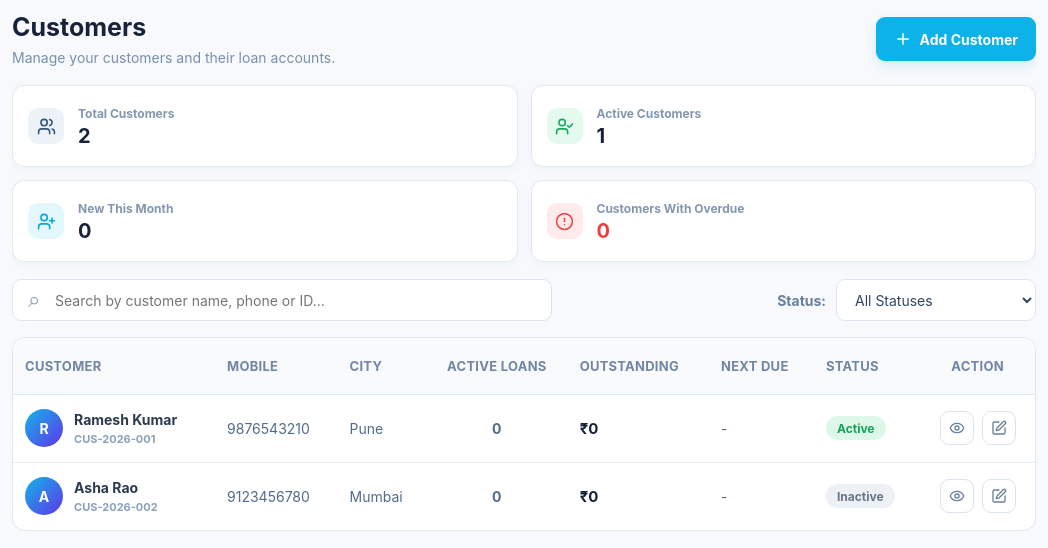
Customers Page Component › filters customer list based on search input
Expected: the text "Ramesh Kumar" is shown, [74,410,177,428]
Type "Ramesh" into the search field with placeholder "Search by customer name, phone or ID..." at (282, 300), box [12,279,552,321]
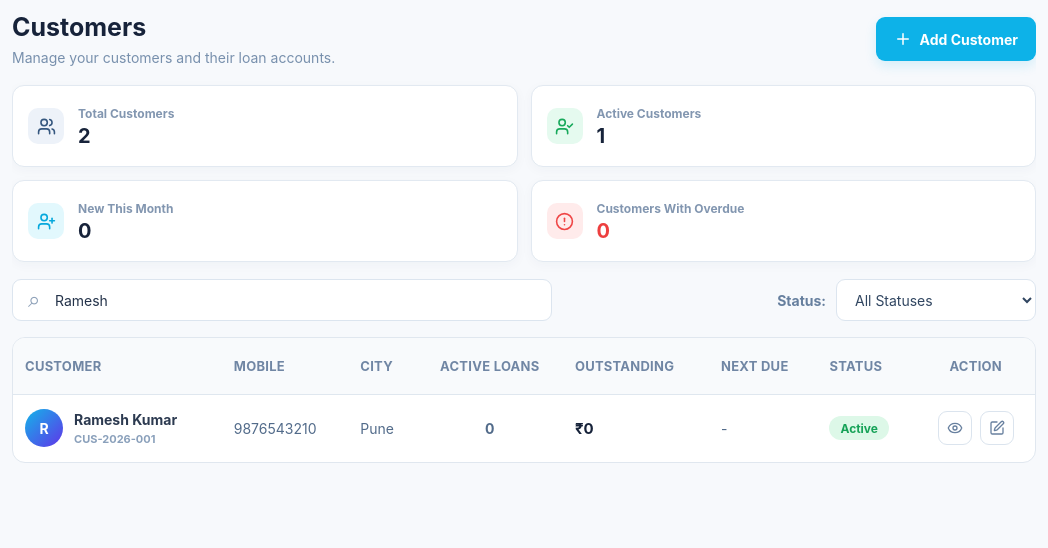
Expected: the text "Ramesh Kumar" is shown, [74,411,177,428]
Expected: the text "Asha Rao" is gone
